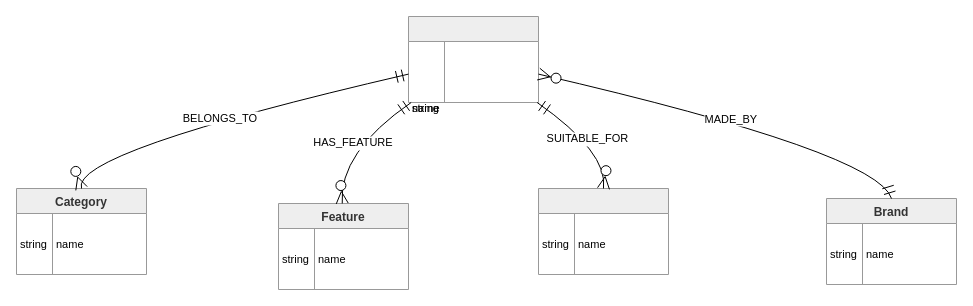
Image size: 973x306. Some labels were removed from this diagram. The box of each missing label's shape, as (x1, y1, x2, y2) in pixels:
Product: (408, 16, 538, 102)
UseCase: (538, 188, 668, 274)
